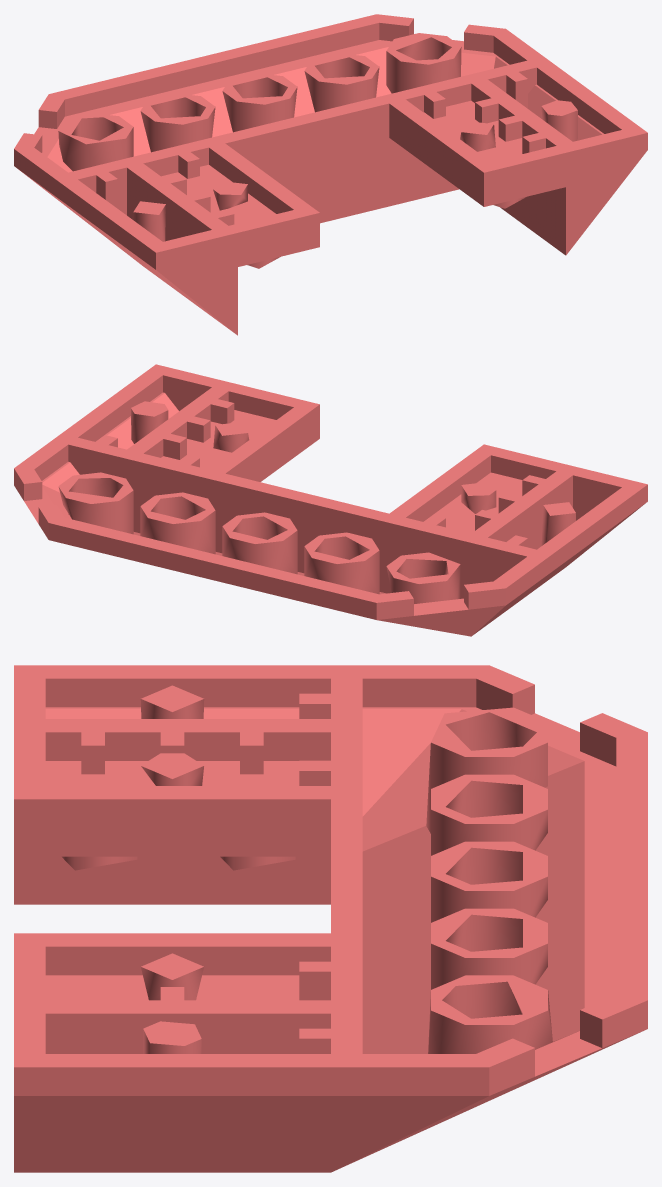
File: 13269_mid.glb
The picture shows the model from 3 angles, top to bottom: view 1: azimuth 30°, elevation 25°; view 2: azimuth 150°, elevation 25°; view 3: azimuth 270°, elevation 25°; orthographic projection. The views are drawn at different scales.
Parts seen in each view (by area): view 1: LDrawPart; view 2: LDrawPart; view 3: LDrawPart.
Part boxes in pixels (x1,y1,x2,y2): LDrawPart: (14, 14, 647, 335); LDrawPart: (14, 364, 647, 636); LDrawPart: (14, 665, 647, 1172).
Bounding box in the file's own units: 0.84 × 0.168 × 0.56.
